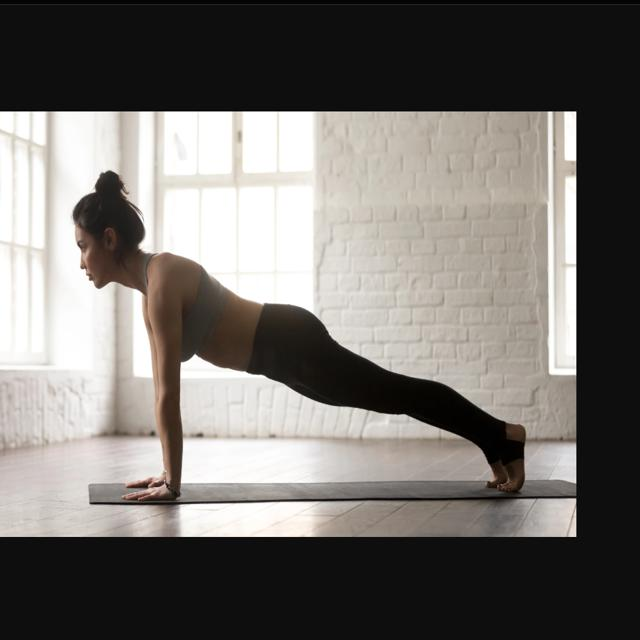Plank_Pose: (66, 167, 536, 508)
